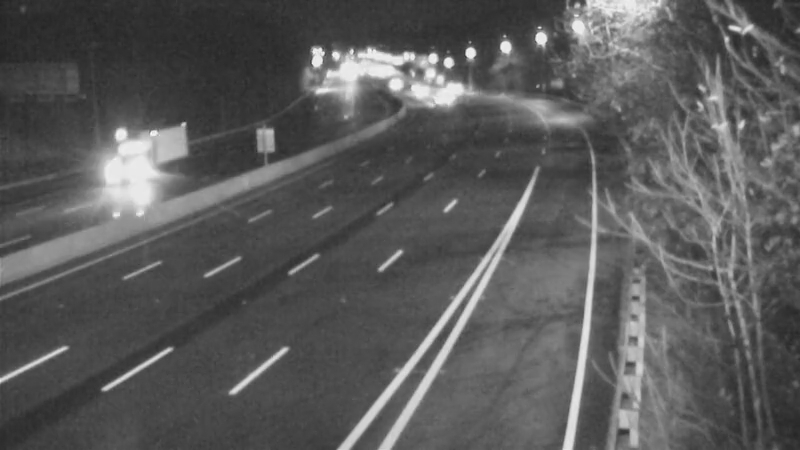vehicle: (107, 120, 187, 200), (370, 56, 420, 106), (396, 68, 446, 118), (423, 69, 473, 119), (401, 79, 451, 129)
